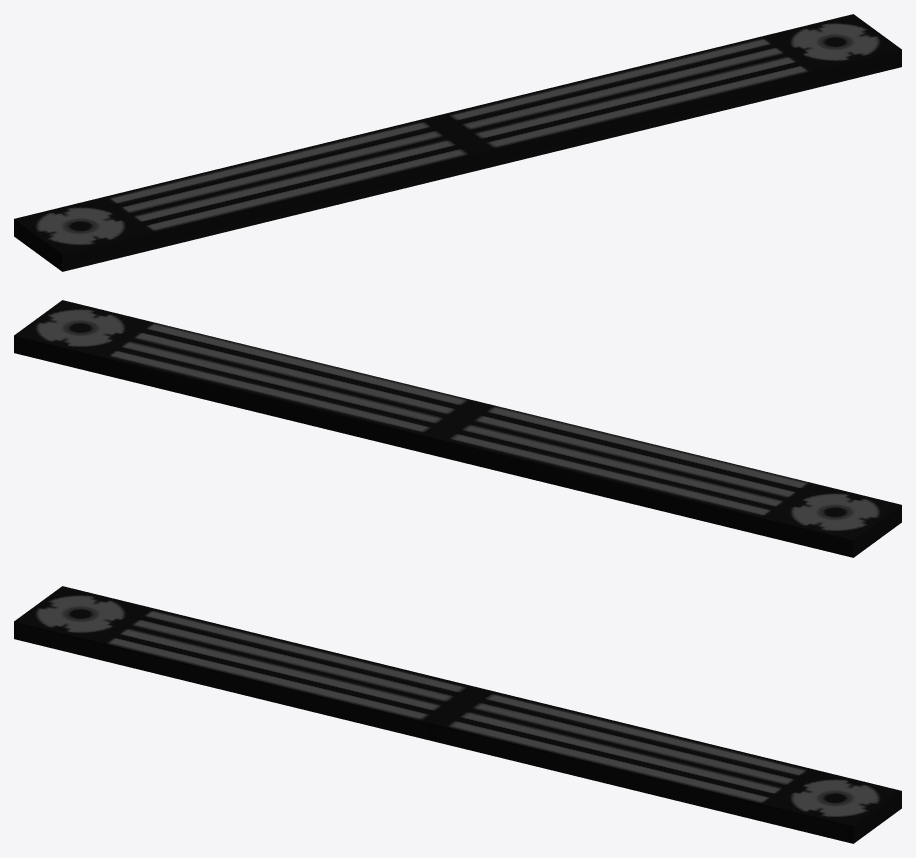
The model's file is StairMid.fbx.
The picture shows the model from 3 angles, top to bottom: view 1: azimuth 30°, elevation 25°; view 2: azimuth 150°, elevation 25°; view 3: azimuth 330°, elevation 25°; orthographic projection.
Visible parts, largest first — view 1: SM_Platforms_Stairs; view 2: SM_Platforms_Stairs; view 3: SM_Platforms_Stairs.
Part boxes in pixels (x1,y1,x2,y2): SM_Platforms_Stairs: (14,14,901,271); SM_Platforms_Stairs: (14,300,901,557); SM_Platforms_Stairs: (14,586,901,843).
Bounding box in the file's own units: 500 × 10 × 50.
